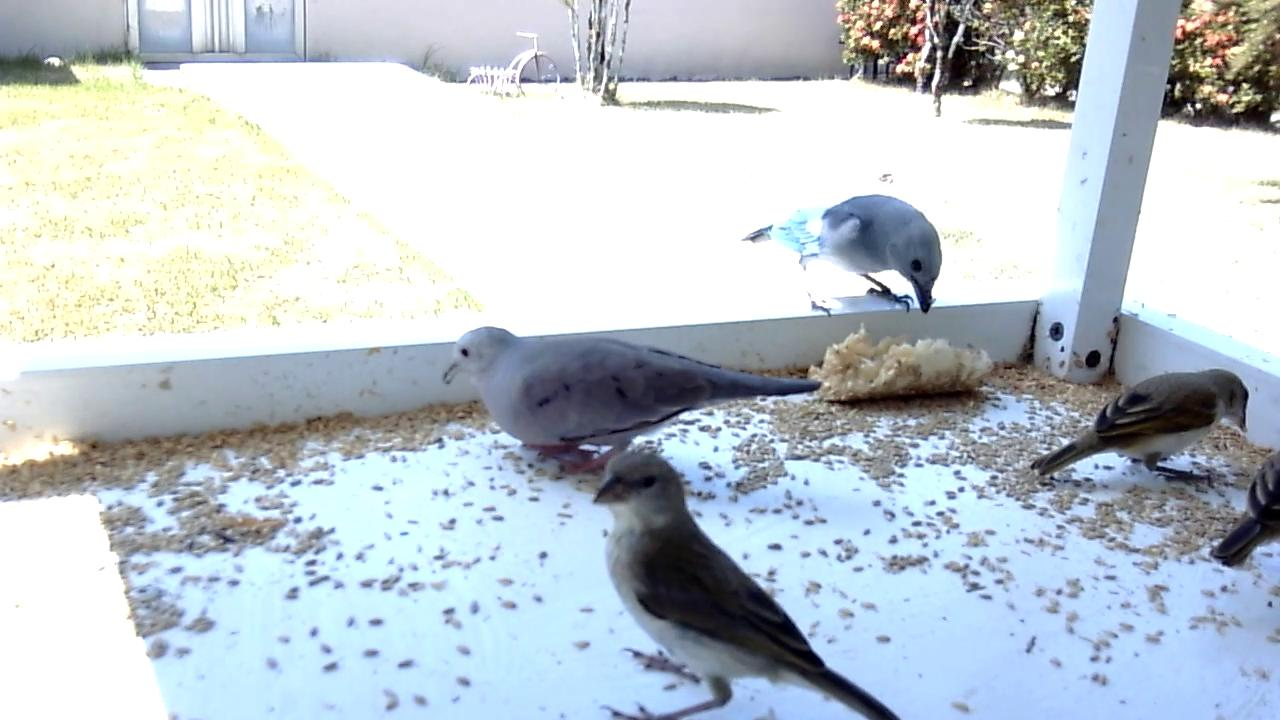canario_do_amazonas: (594, 451, 900, 720), (1031, 365, 1256, 484), (1207, 433, 1280, 568)
rolinha: (445, 323, 823, 477)
sanhaco_da_amazonia: (740, 189, 946, 319)
